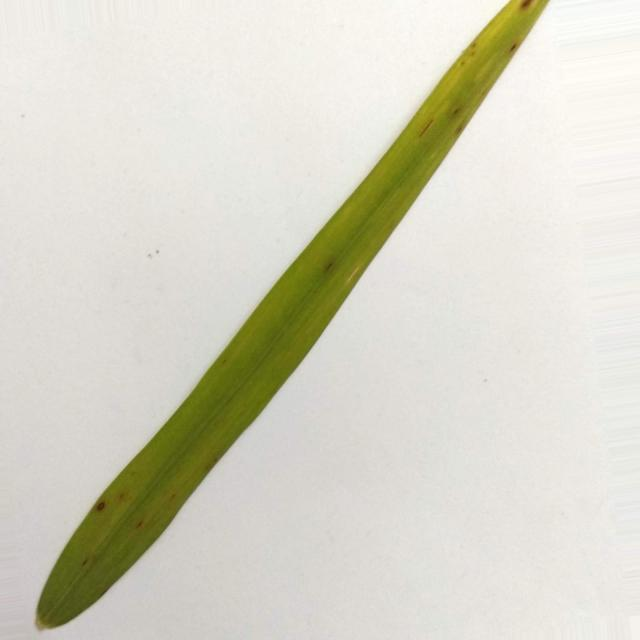Brown_Spot: (420, 118, 434, 136), (321, 256, 336, 270), (466, 40, 478, 57), (454, 124, 466, 138), (520, 0, 534, 10), (510, 41, 519, 56), (450, 104, 461, 114), (135, 519, 144, 528), (98, 501, 105, 509)
